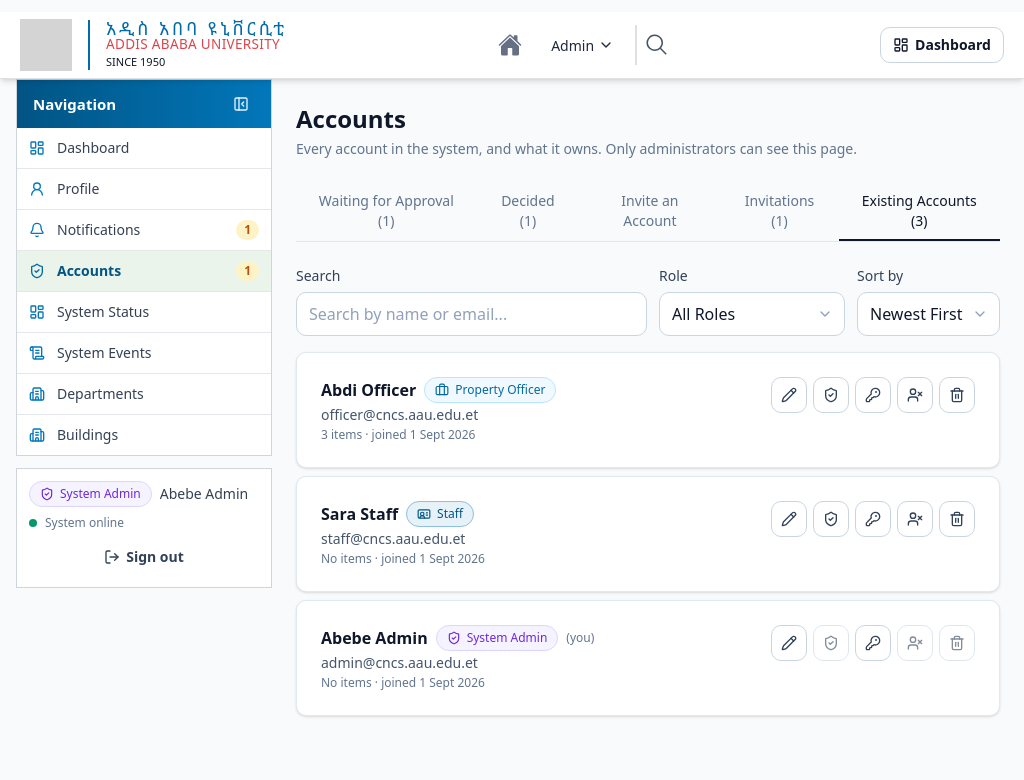
Test: /admin/users — the invitation list (T8/F06) › shows every invitation with its state, and offers actions only on live links
This screenshot has width=1024, height=780.
Click the button "Invitations (1)". click: x=780, y=212
box: [721,183,838,241]
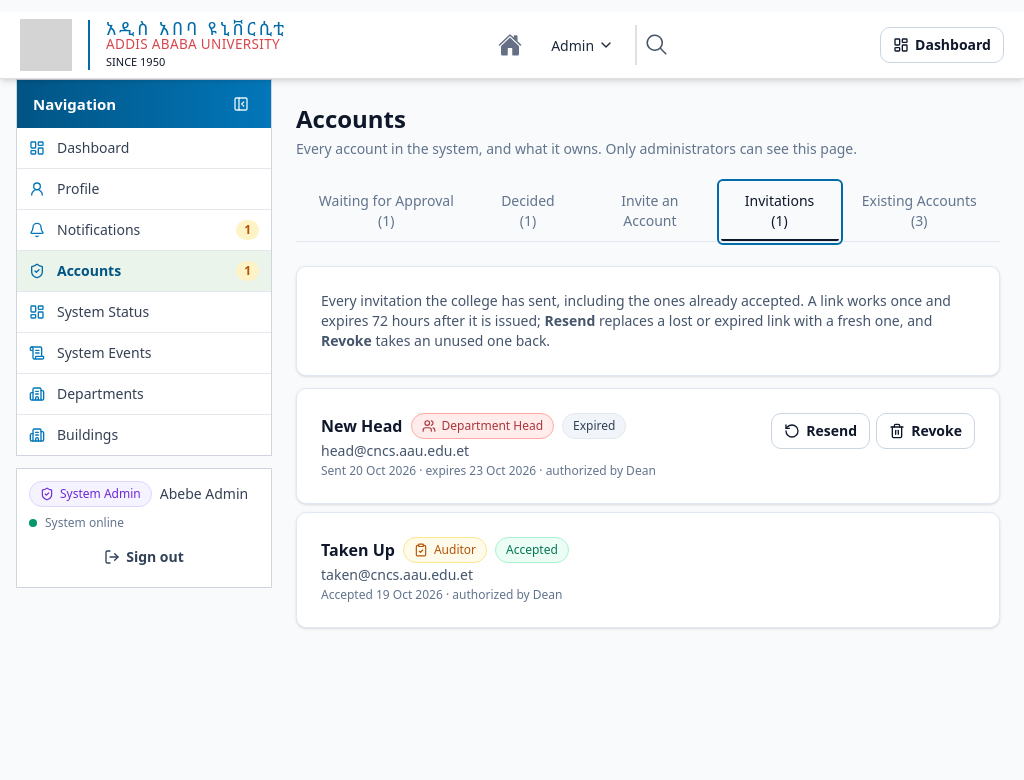
Check: the text "head@cncs.aau.edu.et" is shown, box [321,441,469,460]
Check: the text "Expired" is shown, box [562,413,626,439]
Check: the text "Accepted" is shown, box [495,537,569,563]
